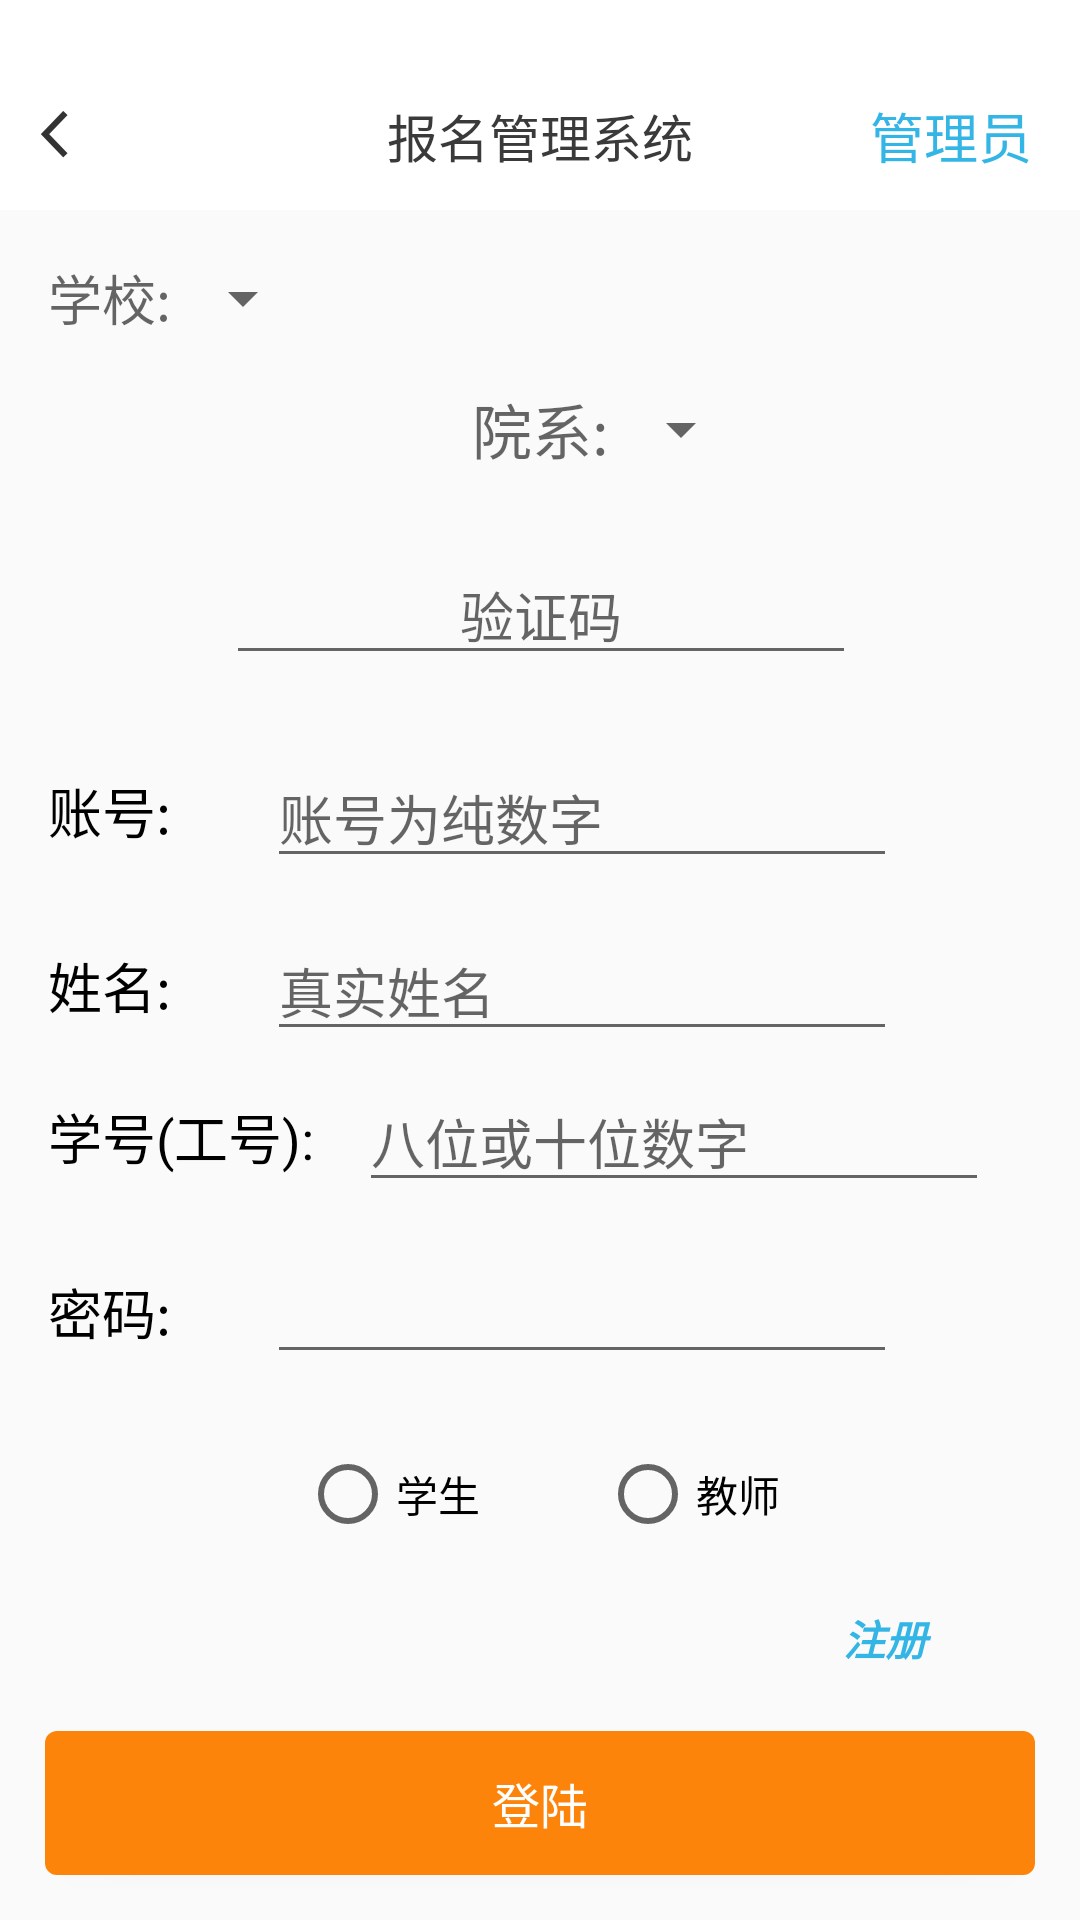

Point at icon controls on the screen. Image size 1080w x 1920h, points as (x=x, y=y).
back: (x=54, y=134)
